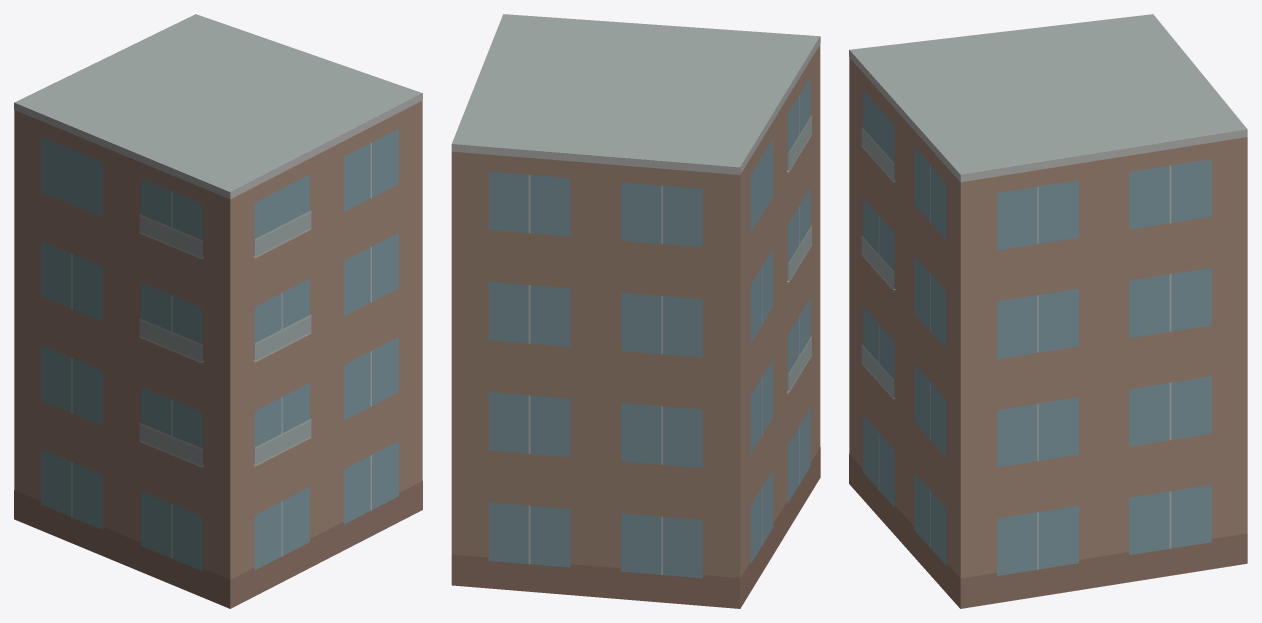
File: survey-upis-32460952.glb
3 views of the same model, side by side, from view 1: azimuth 30°, elevation 25°; view 2: azimuth 150°, elevation 25°; view 3: azimuth 270°, elevation 25° (orthographic). The views are drawn at different scales.
Parts seen in each view (by area): view 1: survey-upis-32460952.tmp; view 2: survey-upis-32460952.tmp; view 3: survey-upis-32460952.tmp.
Boxes of the visible parts, box(x1,y1,x2,y2) form: survey-upis-32460952.tmp: box(14, 14, 422, 608); survey-upis-32460952.tmp: box(451, 14, 820, 608); survey-upis-32460952.tmp: box(849, 14, 1247, 608).
Size of the model in its own units: 11.21 by 14.1 by 11.74.
